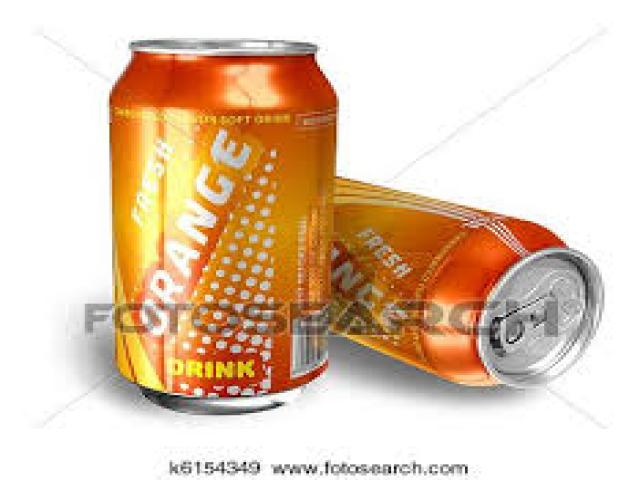Canned_drinks: (107, 42, 339, 414), (331, 179, 604, 388)
